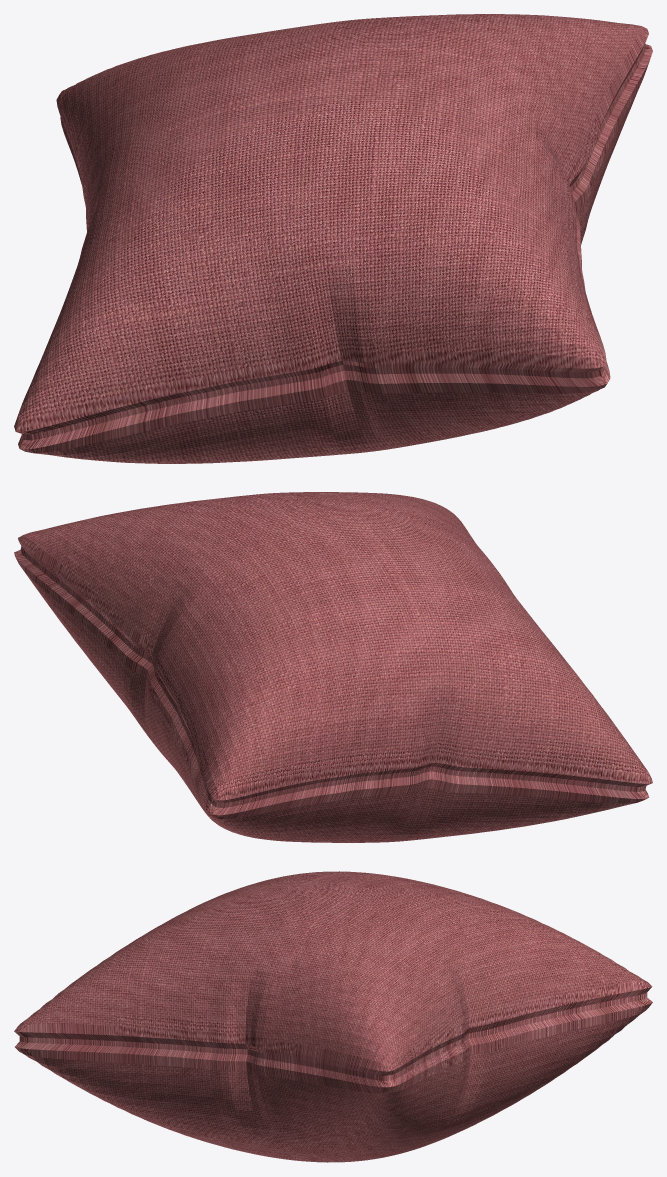
The model's file is pillow1.glb.
The picture shows the model from 3 angles, top to bottom: view 1: azimuth 30°, elevation 25°; view 2: azimuth 150°, elevation 25°; view 3: azimuth 270°, elevation 25°; orthographic projection. The views are drawn at different scales.
Parts seen in each view (by area): view 1: p1; view 2: p1; view 3: p1.
Part boxes in pixels (left/top/right/bottom): p1: left=14, top=14, right=652, bottom=463; p1: left=14, top=492, right=652, bottom=842; p1: left=14, top=871, right=652, bottom=1162.
Size of the model in its own units: 2.96 by 1.4 by 3.04.
Materials: 1 (1 with a texture image).
